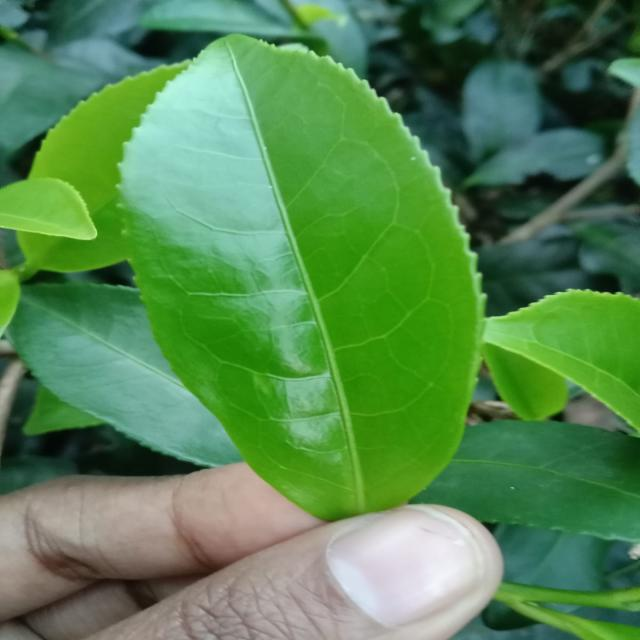Category C(4-7 days): (106, 18, 502, 521)
